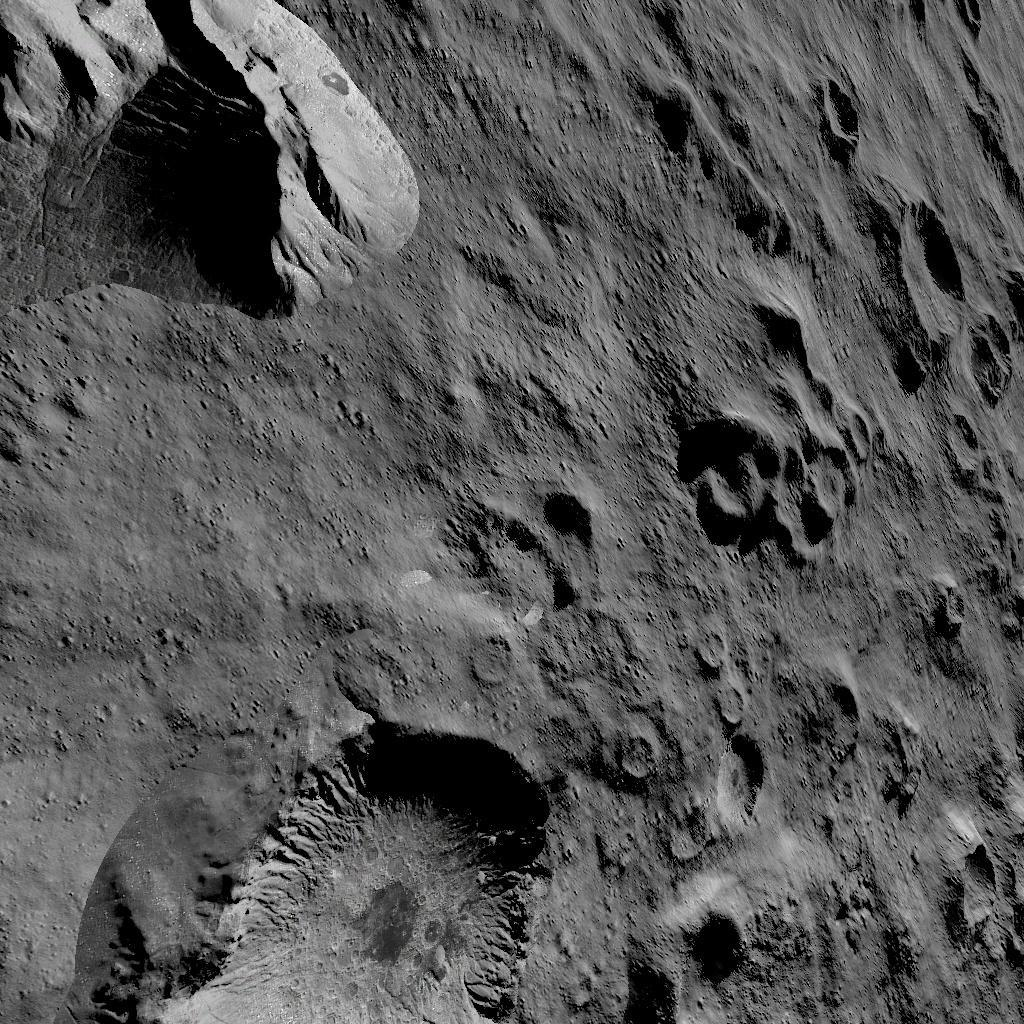Boulders: (1, 0, 426, 342)
Crater: (83, 708, 575, 1024), (681, 394, 884, 562), (617, 890, 765, 1024), (867, 192, 969, 377), (689, 620, 773, 840), (459, 486, 604, 612), (925, 822, 1012, 950), (795, 672, 869, 774), (797, 66, 877, 158), (459, 624, 524, 690), (935, 412, 994, 476), (609, 724, 660, 785)
Plan surface: (3, 348, 440, 692), (455, 0, 647, 470)
